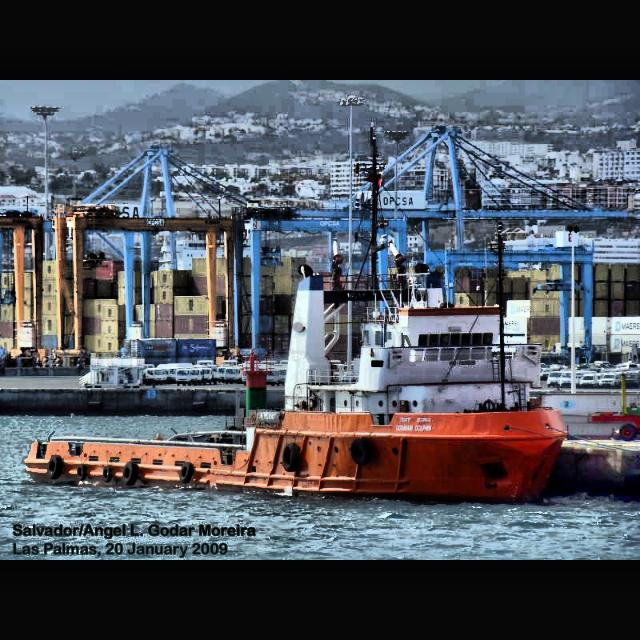tug: (22, 256, 568, 508)
